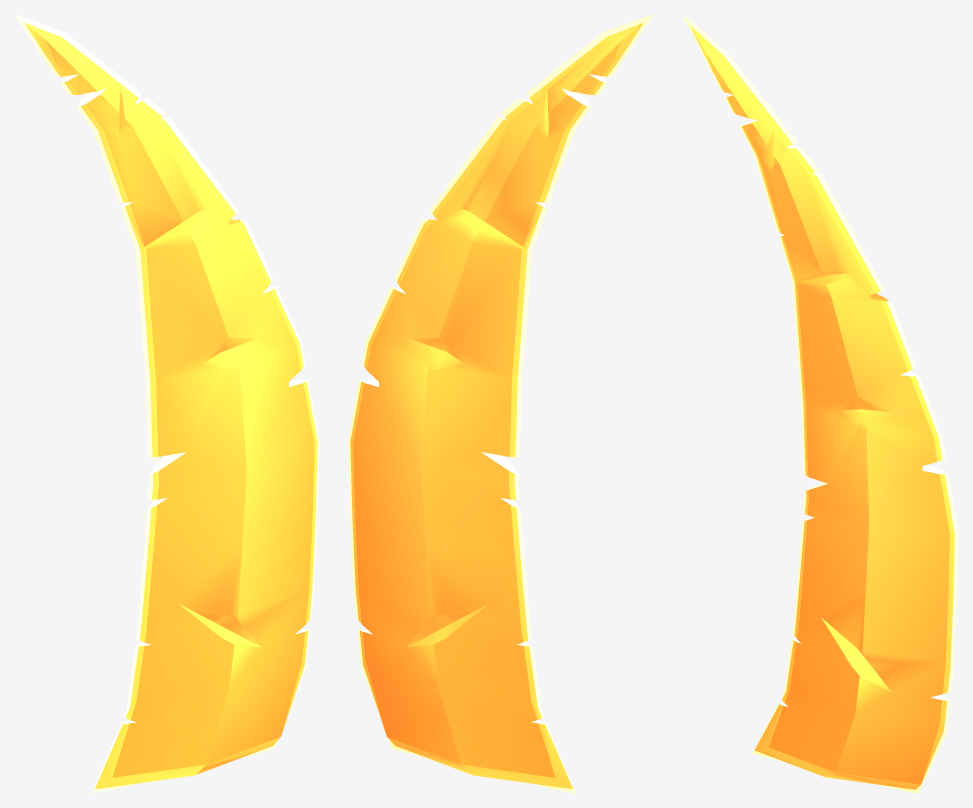
The model's file is gold_blade_scratched_053.glb.
The picture shows the model from 3 angles, left to right: view 1: azimuth 30°, elevation 25°; view 2: azimuth 150°, elevation 25°; view 3: azimuth 330°, elevation 25°; orthographic projection. The views are drawn at different scales.
Parts seen in each view (by area): view 1: gold_blade_scratched.053; view 2: gold_blade_scratched.053; view 3: gold_blade_scratched.053.
Part boxes in pixels (box(x1,y1,x2,y2)): gold_blade_scratched.053: box(14, 14, 319, 793); gold_blade_scratched.053: box(348, 14, 653, 793); gold_blade_scratched.053: box(682, 14, 958, 793).
Bounding box in the file's own units: 4.91 × 12.29 × 0.7262.
Materials: 1 (1 with a texture image).
